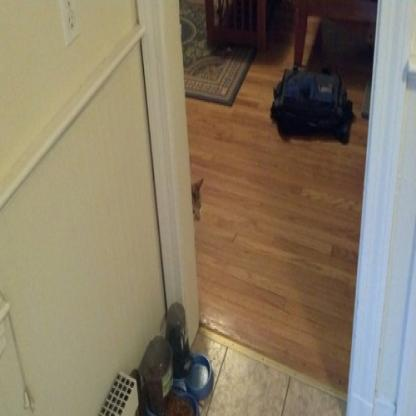Target: (187, 178, 206, 230)
